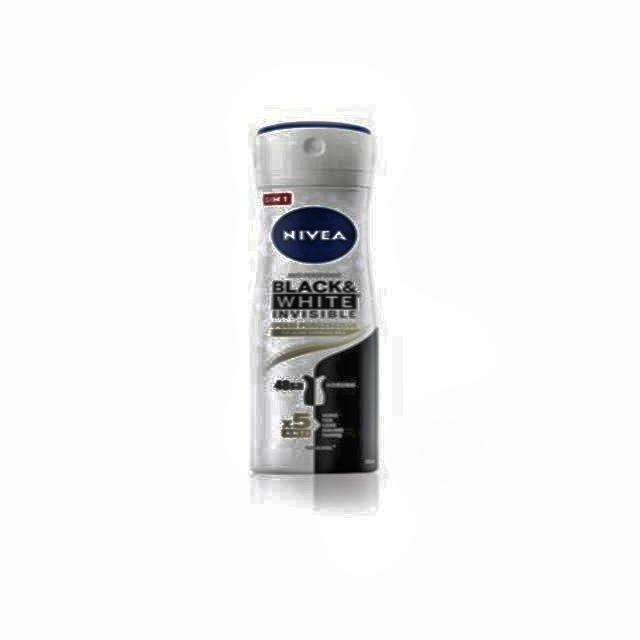metal: (249, 125, 379, 476)
